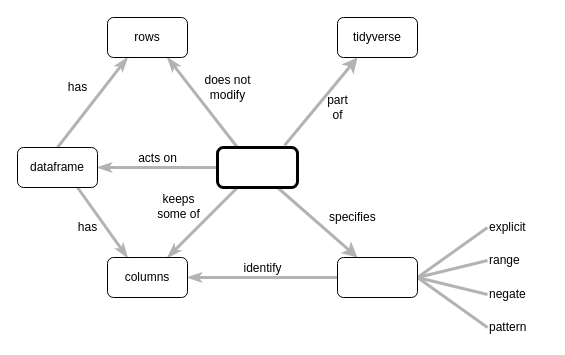
Image size: 565x355. Some labels were removed from this diagram. Here are the shapes that lost their labels. From the top down, the centre of each, then its label:
point 257,167: select
point 377,277: names
